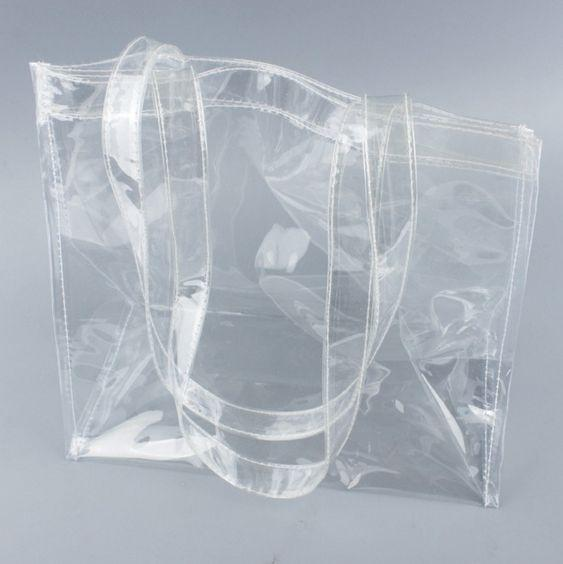PVC: (0, 3, 563, 564)
